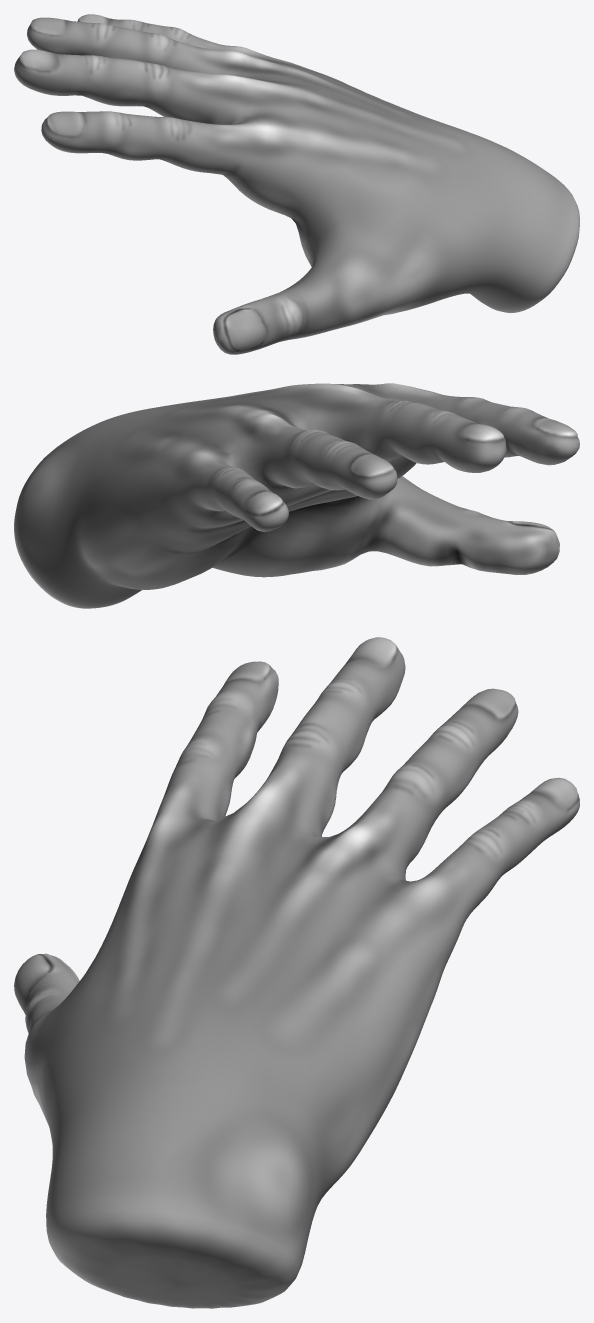
The model's file is right-hand.obj.
3 renders of one model, top to bottom at view 1: azimuth 30°, elevation 25°; view 2: azimuth 150°, elevation 25°; view 3: azimuth 270°, elevation 25°, orthographic. The views are drawn at different scales.
Visible parts, largest first — view 1: Group16023.002; view 2: Group16023.002; view 3: Group16023.002.
Part boxes in pixels (bbox=[...]): Group16023.002: bbox=[14, 14, 579, 354]; Group16023.002: bbox=[14, 383, 579, 608]; Group16023.002: bbox=[14, 637, 579, 1308].
Bounding box in the file's own units: 0.8014 × 0.4538 × 0.5762.
